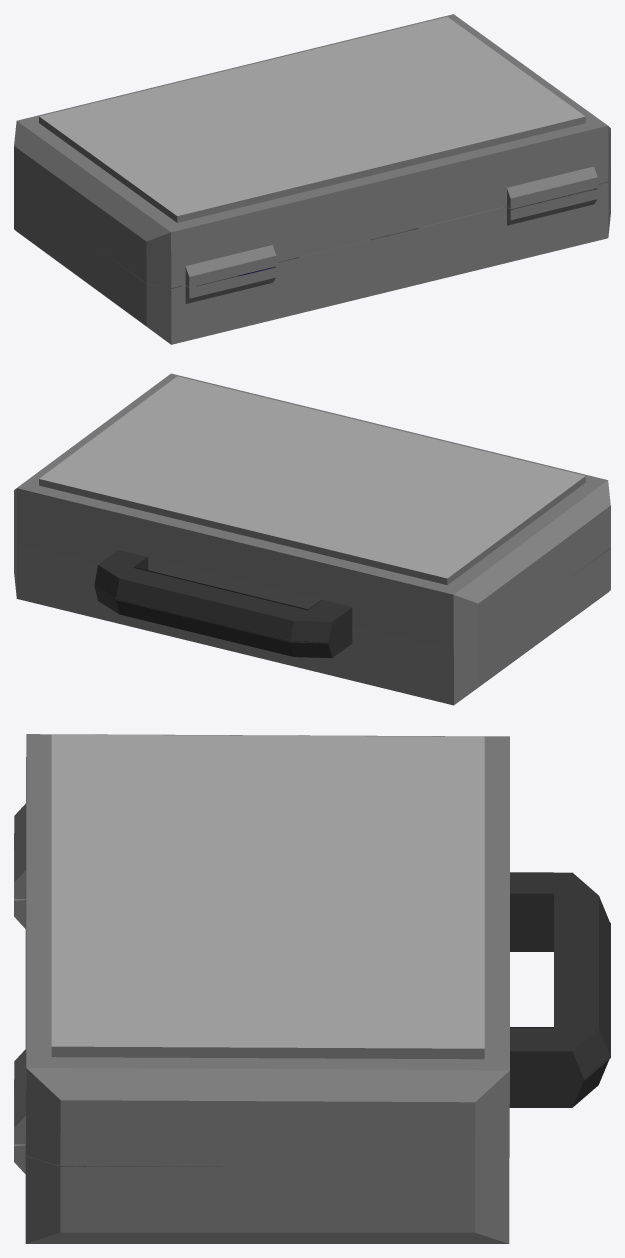
The model's file is CJGCK.fbx.
3 renders of one model, top to bottom at view 1: azimuth 30°, elevation 25°; view 2: azimuth 150°, elevation 25°; view 3: azimuth 270°, elevation 25°, orthographic. The views are drawn at different scales.
Visible parts, largest first — view 1: Cube; view 2: Cube; view 3: Cube.
Part boxes in pixels (bbox=[...]): Cube: bbox=[14, 14, 610, 344]; Cube: bbox=[14, 373, 610, 705]; Cube: bbox=[14, 734, 610, 1243].
Size of the model in its own units: 0.3364 by 0.0871 by 0.2393.
